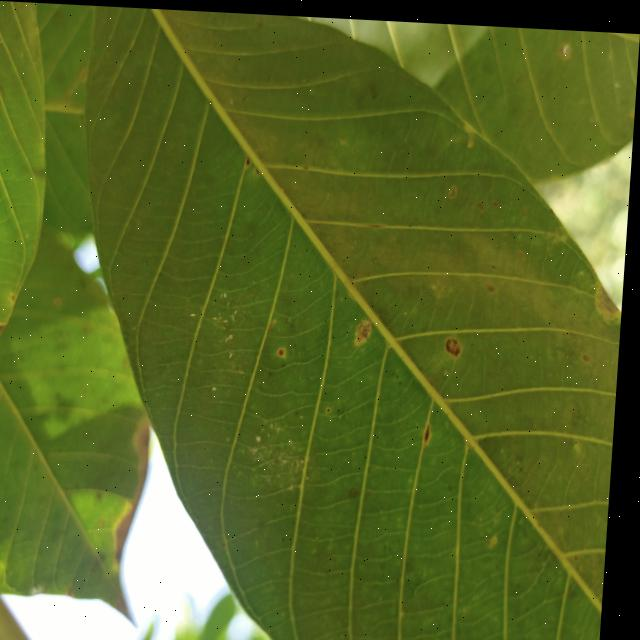Colletotrichum: (450, 332, 465, 351)
